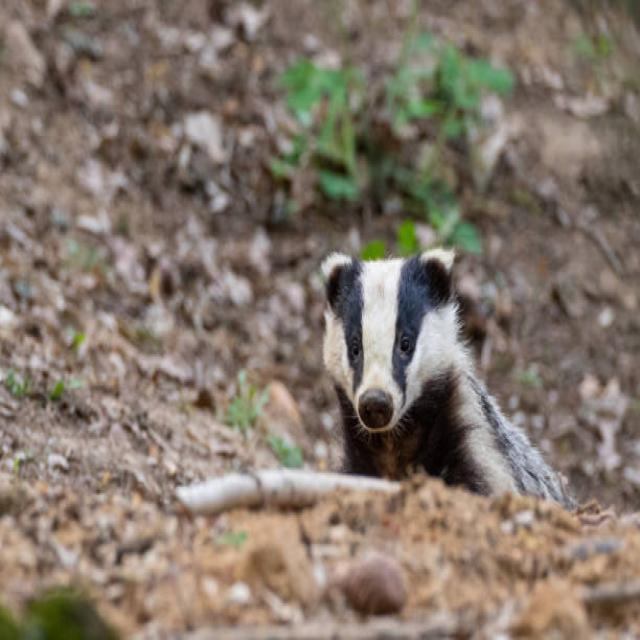Badger: (315, 242, 569, 520)
